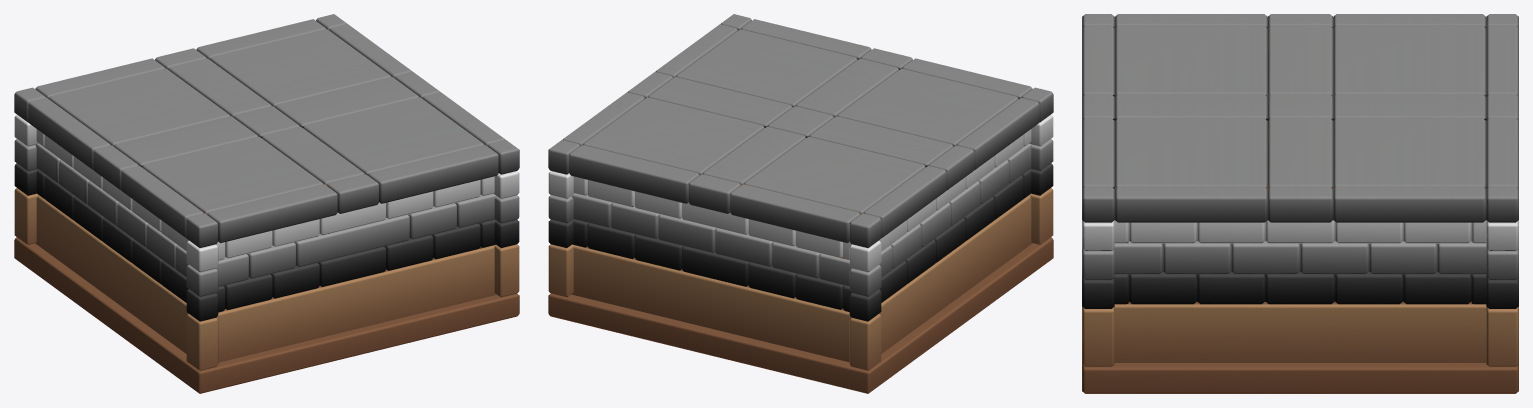
The model's file is SM_Brick_Body_02.fbx.
3 views of the same model, side by side, from view 1: azimuth 30°, elevation 25°; view 2: azimuth 150°, elevation 25°; view 3: azimuth 270°, elevation 25° (orthographic). The views are drawn at different scales.
Visible parts, largest first — view 1: SM_Brick_Body_02; view 2: SM_Brick_Body_02; view 3: SM_Brick_Body_02.
Part boxes in pixels (box(x1,y1,x2,y2)): SM_Brick_Body_02: box(14, 14, 519, 393); SM_Brick_Body_02: box(548, 14, 1053, 393); SM_Brick_Body_02: box(1082, 14, 1518, 393).
Size of the model in its own units: 2 by 1 by 2.
